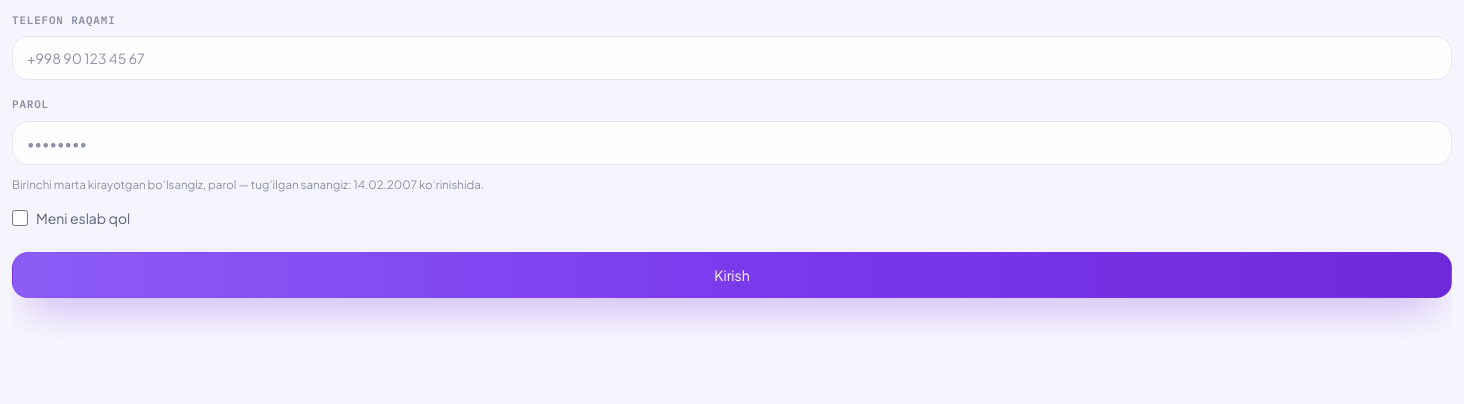
Test case: LoginForm › noto’g’ri ma’lumotda xato xabarini ko’rsatadi
In the field labelled "Telefon raqami": (732, 58) [12,36,1452,80], type "+998900000000"
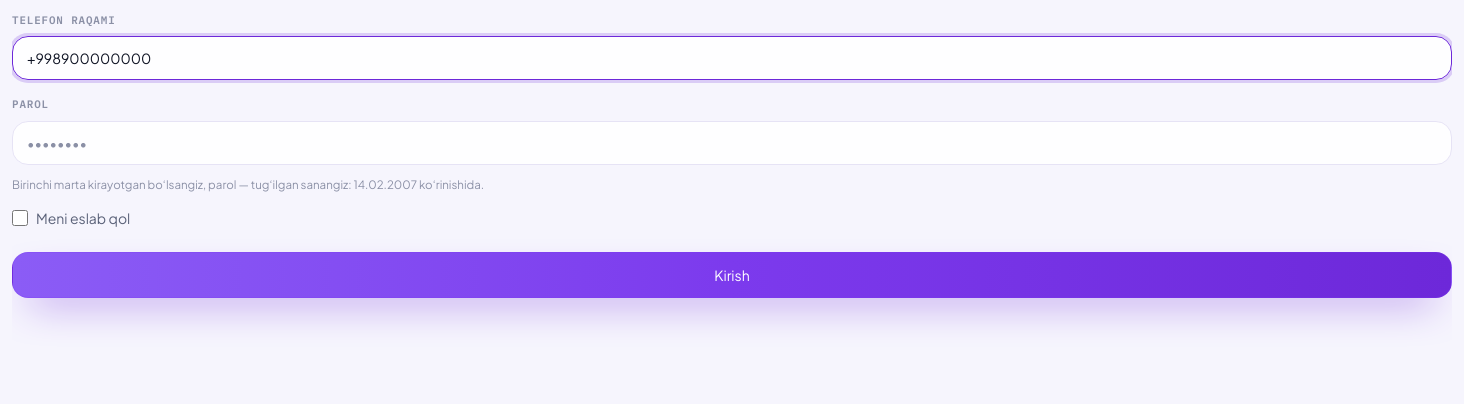
In the password field labelled "Parol": (732, 143) [12,121,1452,165], type "wrong"
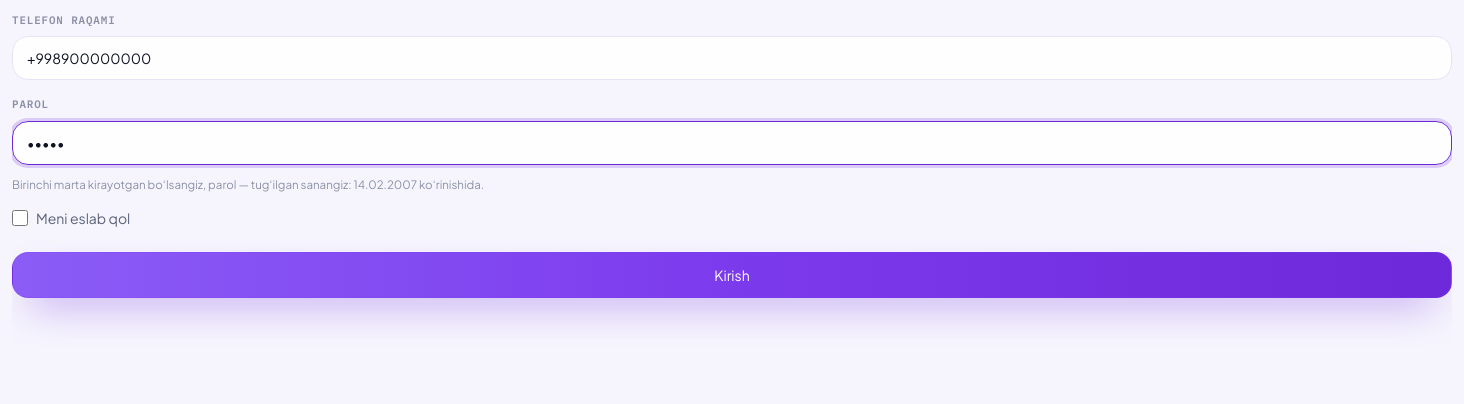
Click the button "Kirish": (732, 276) [12,252,1452,298]
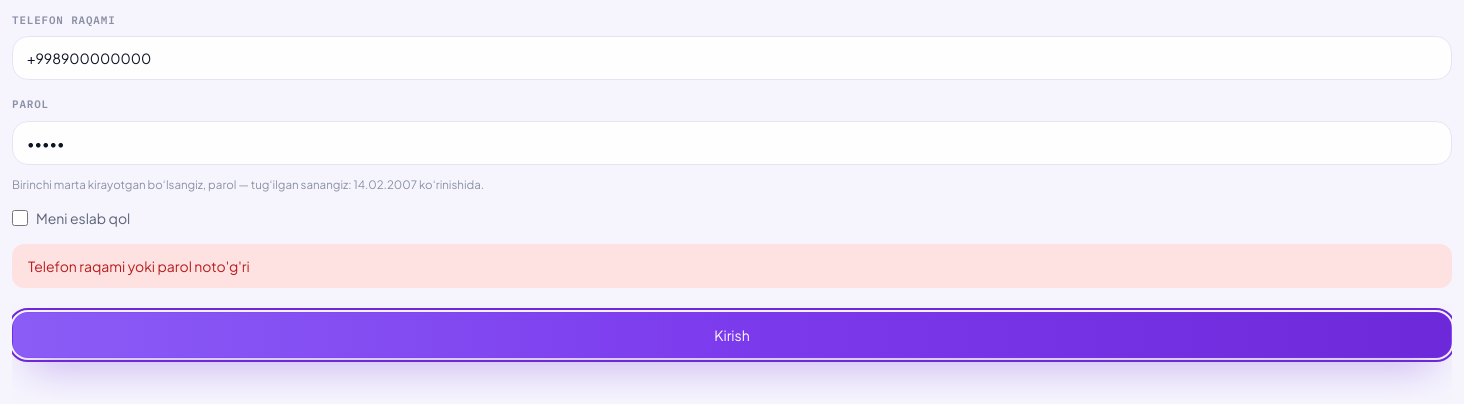
Check: the message reads "Telefon raqami yoki parol noto'g'ri", box [28,258,250,276]
